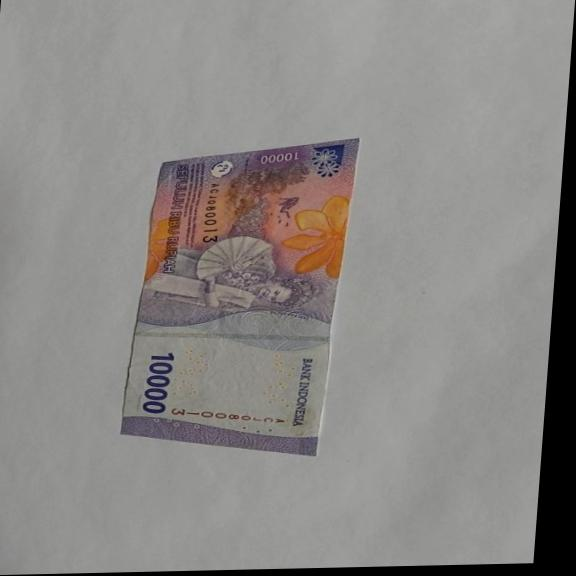Kertas: (117, 137, 361, 461), (140, 351, 177, 414)
